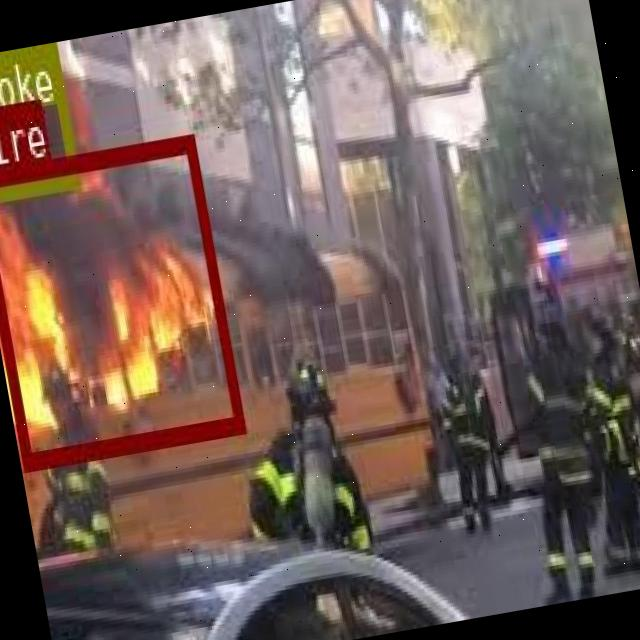fire: (0, 132, 242, 466)
smoke: (0, 42, 77, 199)
